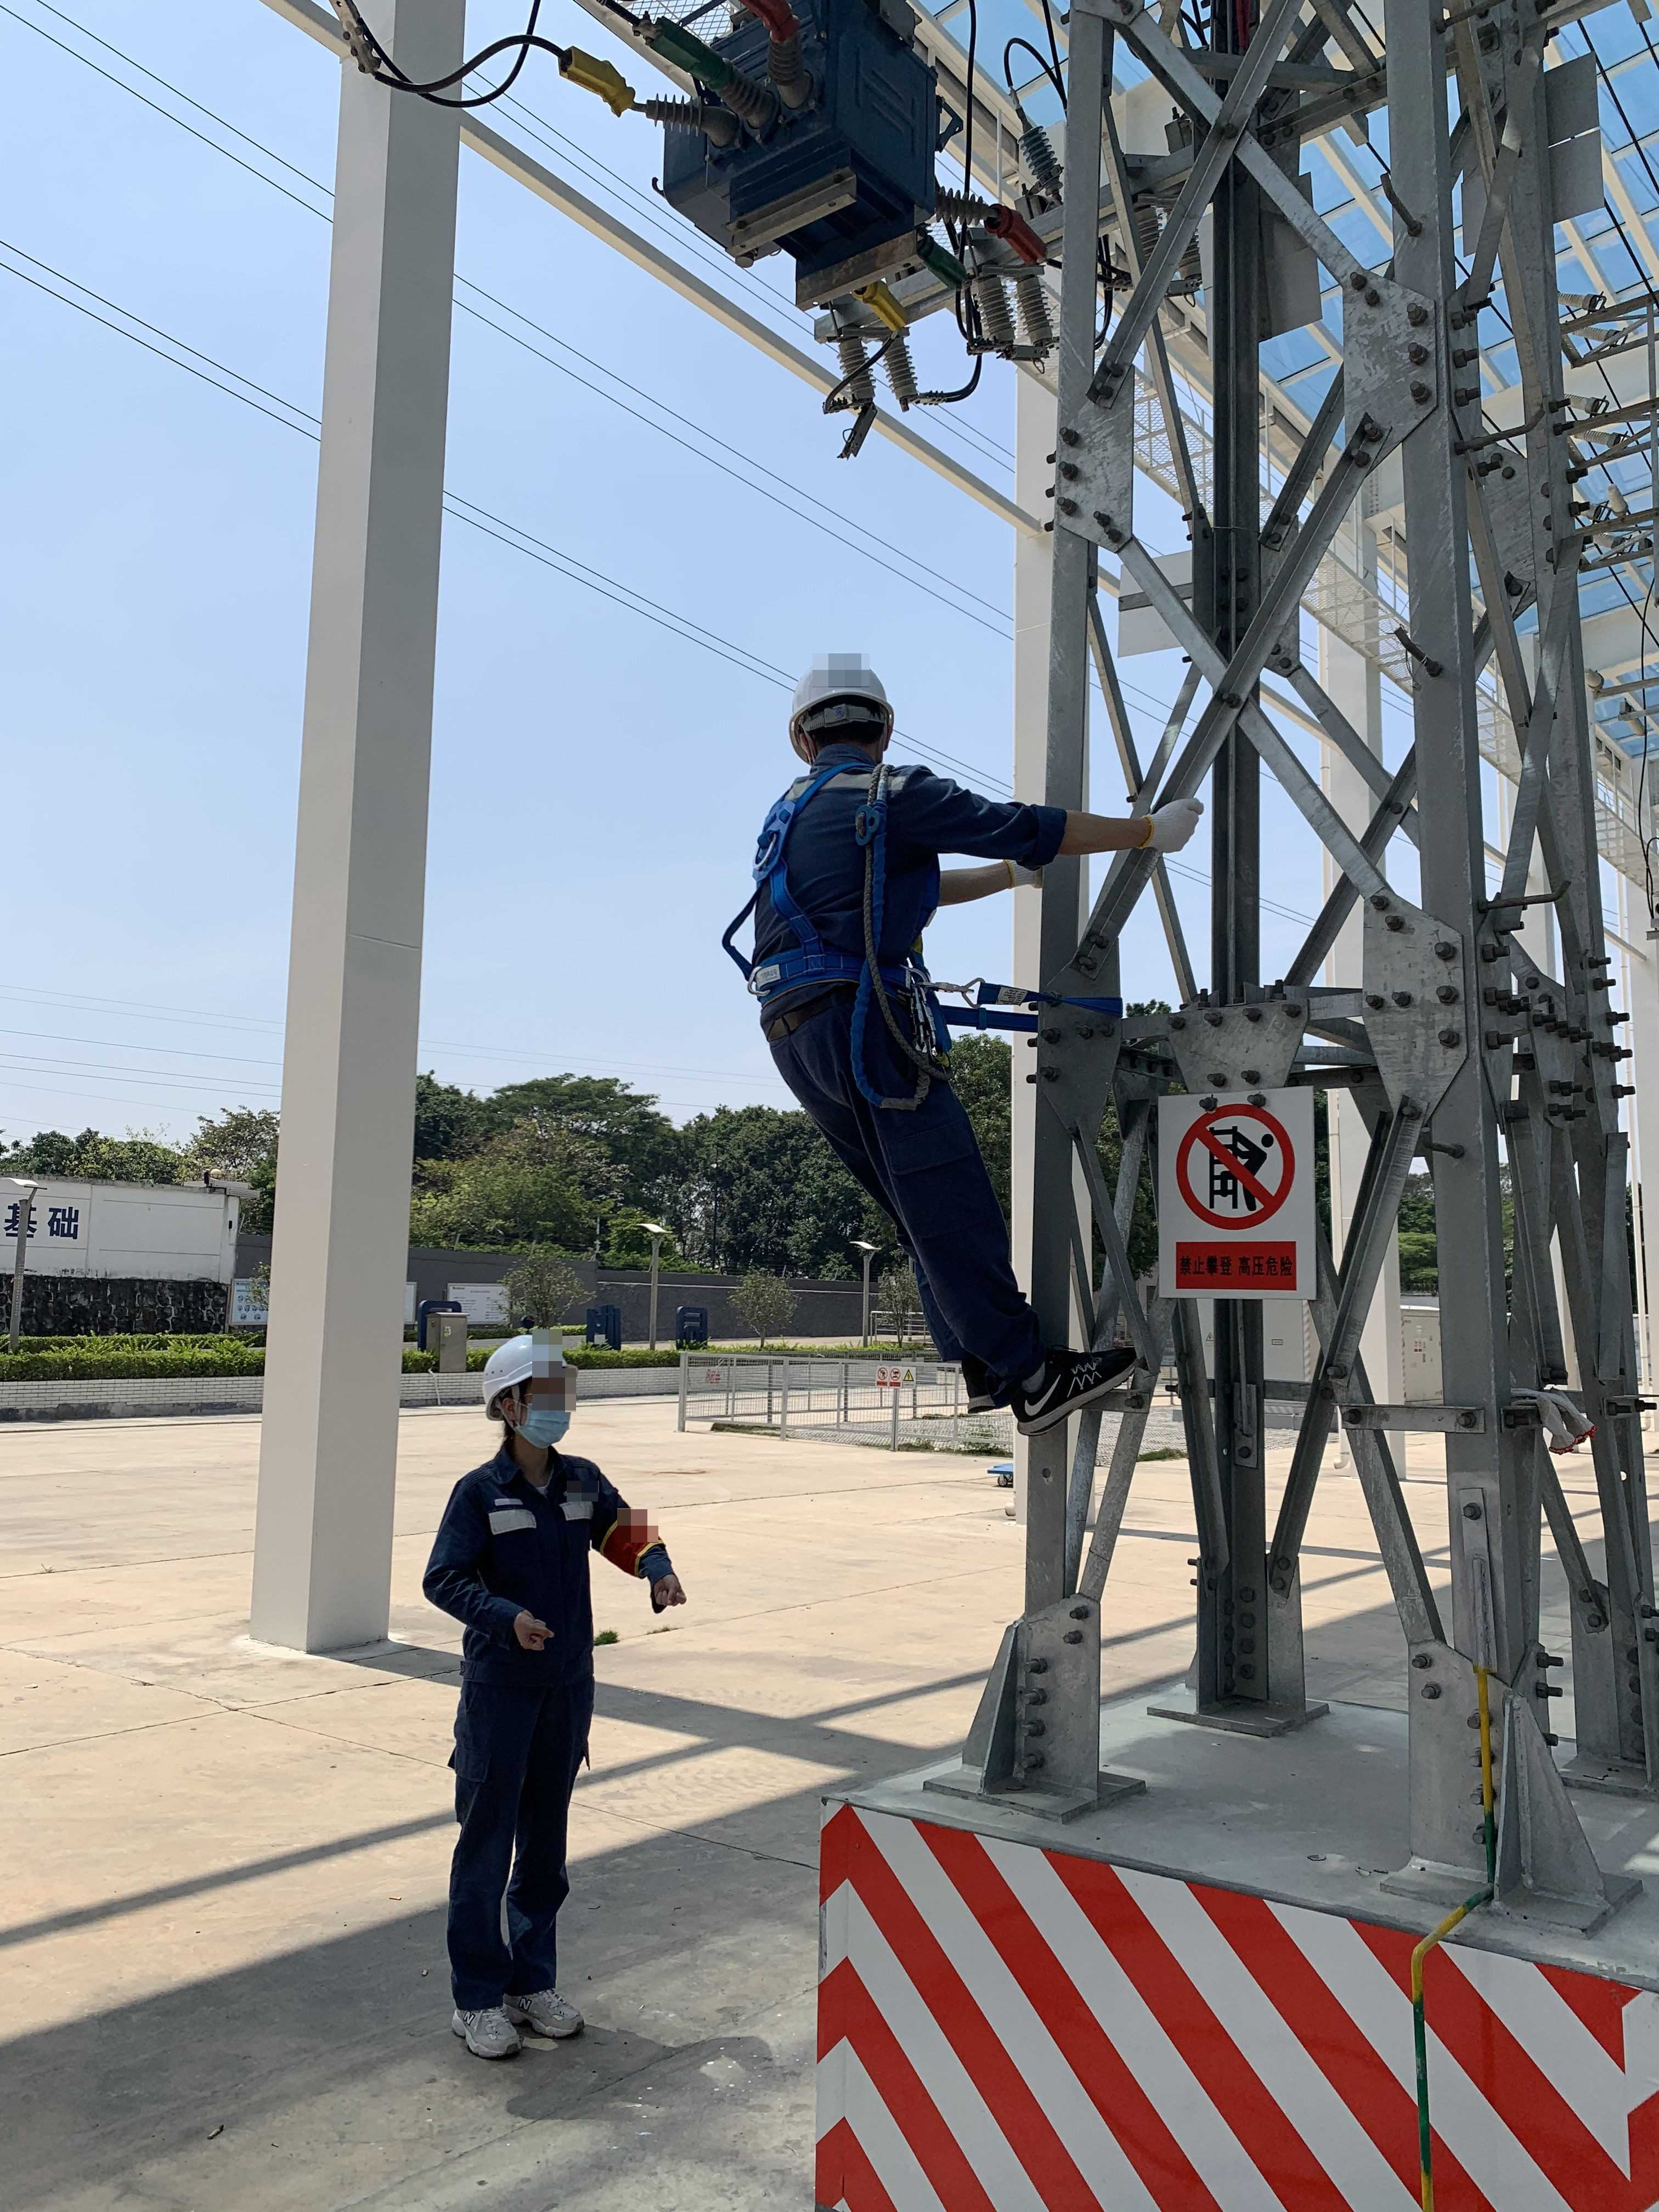downsuit: (767, 1019, 1039, 1369), (439, 1688, 592, 2010)
upsuit: (741, 754, 1075, 991), (422, 1447, 680, 1667)
wrongtop: (1028, 796, 1164, 867), (938, 860, 1026, 911)
